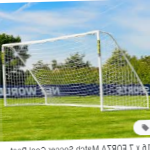goals: (1, 29, 150, 112)
